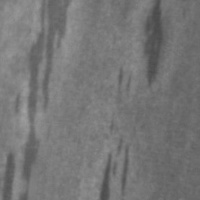inclusion: (0, 0, 80, 189), (98, 63, 143, 198), (135, 0, 172, 90), (178, 0, 194, 19)
